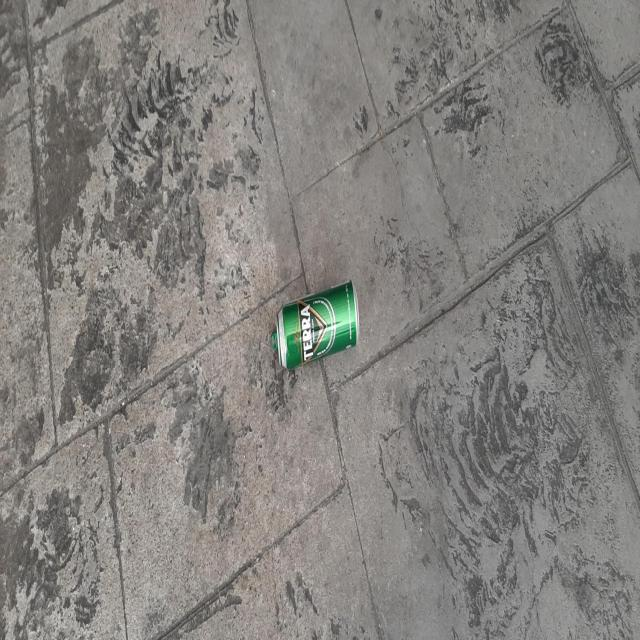can: (271, 279, 360, 368)
